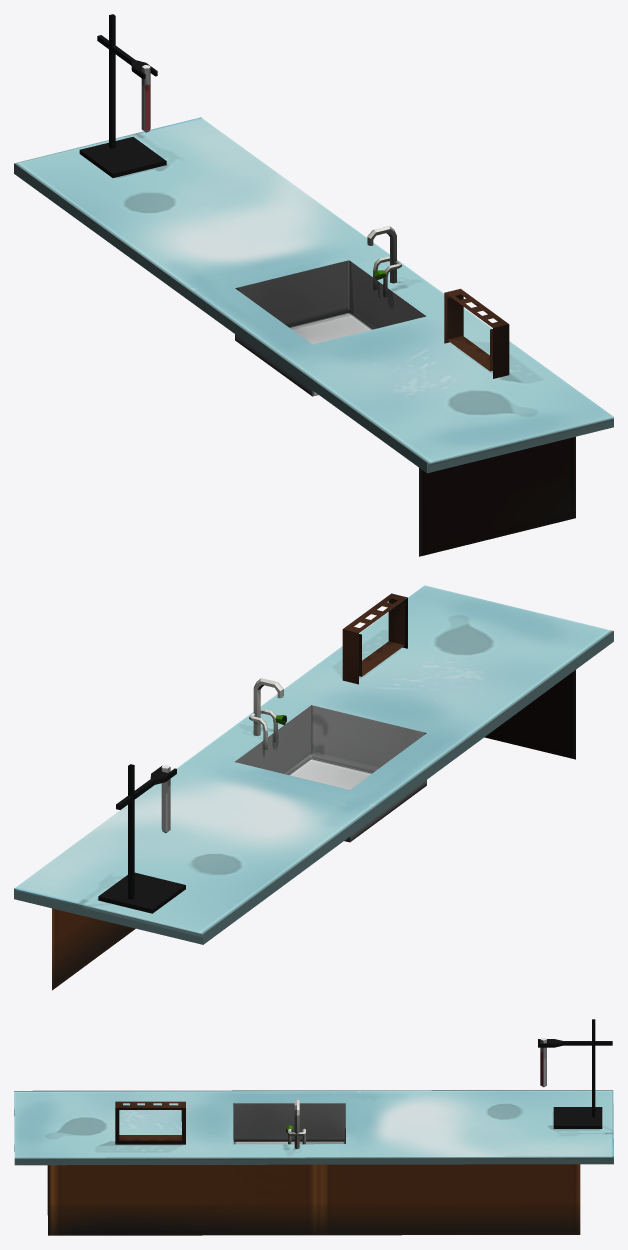
Rendered from Tx_Props_counter_2_ScienceDept.fbx.
The picture shows the model from 3 angles, top to bottom: view 1: azimuth 30°, elevation 25°; view 2: azimuth 150°, elevation 25°; view 3: azimuth 270°, elevation 25°; orthographic projection. The views are drawn at different scales.
Parts seen in each view (by area): view 1: Tx_Props_counter_2_ScienceDept; view 2: Tx_Props_counter_2_ScienceDept; view 3: Tx_Props_counter_2_ScienceDept.
Part boxes in pixels (bbox=[...]): Tx_Props_counter_2_ScienceDept: bbox=[14, 14, 613, 556]; Tx_Props_counter_2_ScienceDept: bbox=[14, 585, 613, 990]; Tx_Props_counter_2_ScienceDept: bbox=[14, 1019, 613, 1235].
Bounding box in the file's own units: 8.38 × 10.58 × 31.34.
